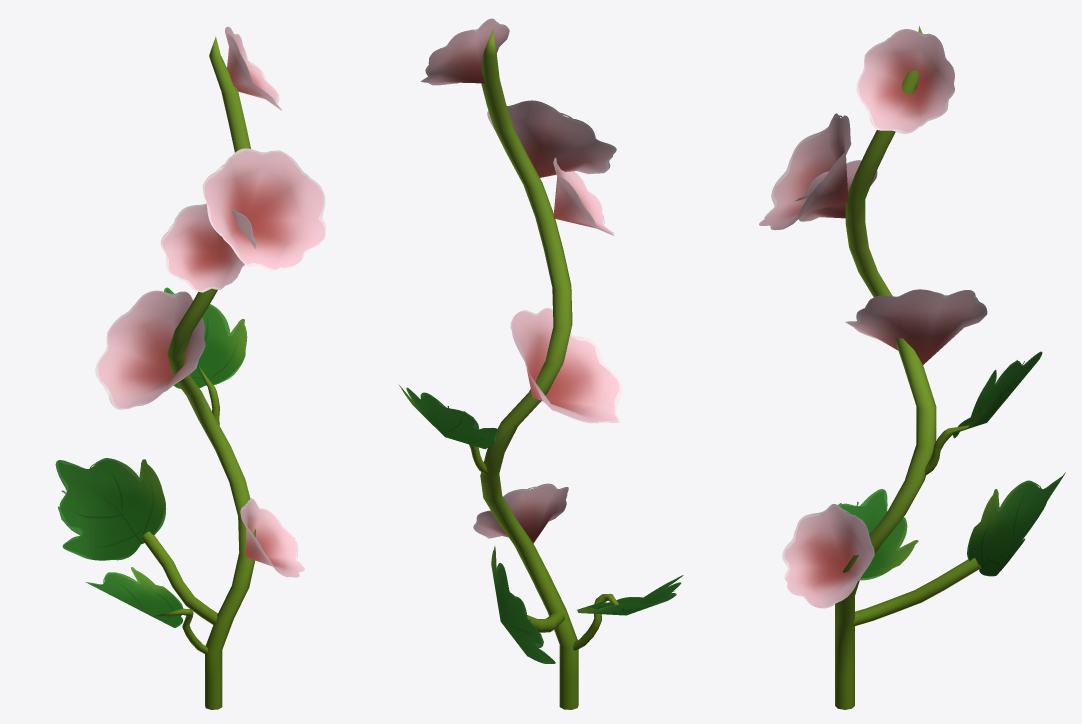
Rendered from tremiere.fbx.
3 renders of one model, left to right at view 1: azimuth 30°, elevation 25°; view 2: azimuth 150°, elevation 25°; view 3: azimuth 270°, elevation 25°, orthographic. The views are drawn at different scales.
Parts seen in each view (by area): view 1: pPlane14; view 2: pPlane14; view 3: pPlane14.
Boxes of the visible parts, x1,y1,x2,y2 form: pPlane14: [55, 26, 325, 709]; pPlane14: [398, 18, 683, 709]; pPlane14: [759, 26, 1065, 709].
Bounding box in the file's own units: 378 × 1003 × 409.
